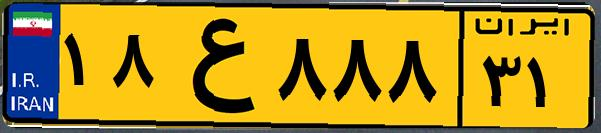1: (57, 26, 110, 100), (525, 38, 570, 115)
3: (475, 38, 525, 113)
8: (270, 28, 330, 110), (385, 28, 445, 110), (330, 28, 385, 110), (110, 28, 158, 98)
ع: (158, 12, 270, 120)
